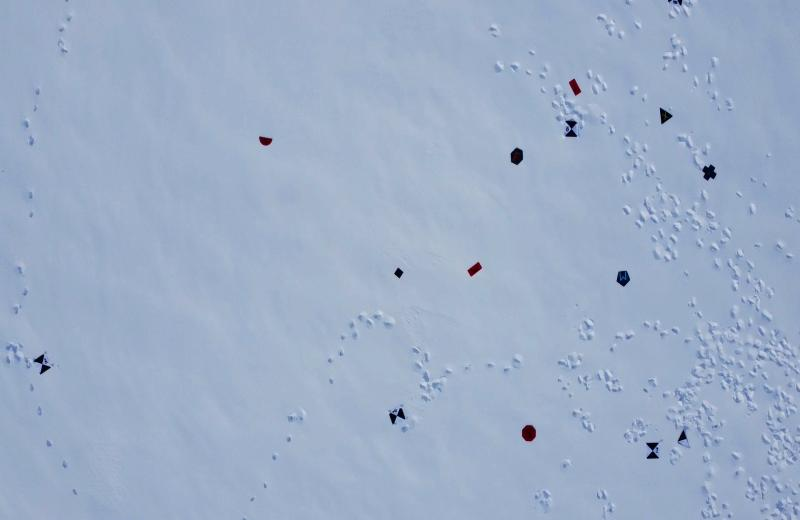Cross: (701, 162, 717, 182)
Hexagon: (508, 147, 524, 165)
Octagon: (521, 423, 538, 444)
Pentagon: (615, 270, 630, 289)
Rectangle: (568, 78, 582, 96), (468, 261, 482, 279)
Semi Circle: (258, 134, 273, 148)
Square: (392, 267, 404, 280)
Triangle: (658, 107, 674, 126)
